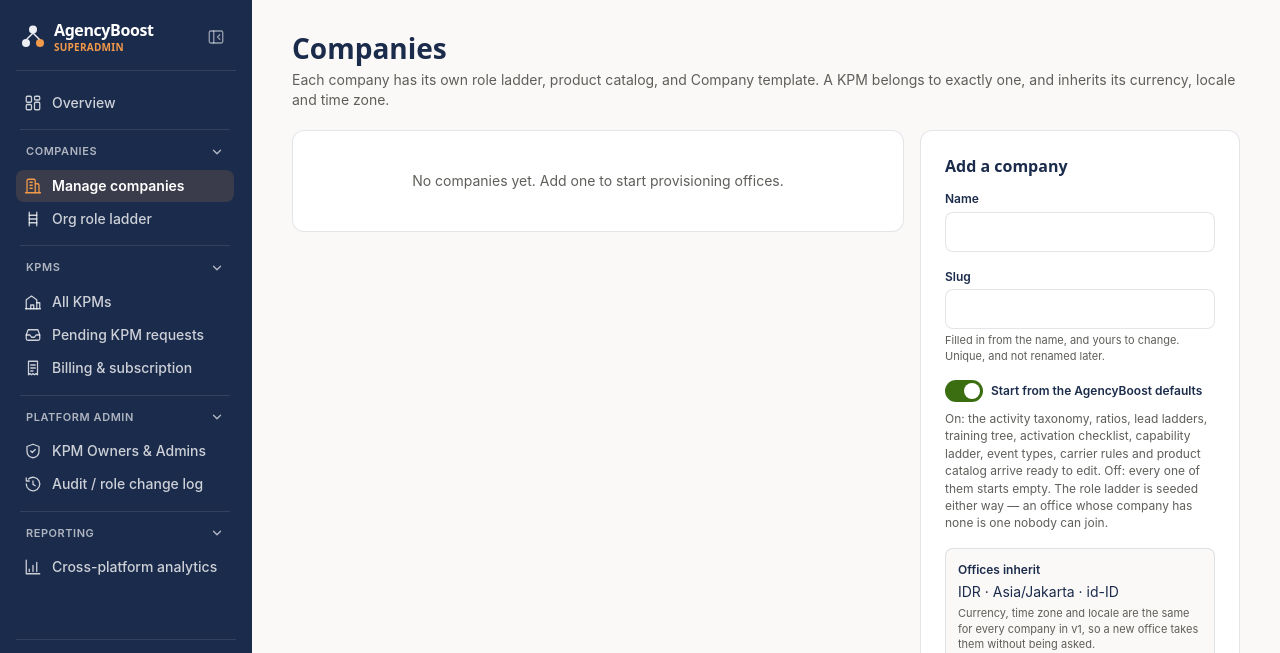
Test case: companies › rejects a slug the API would reject, before the round trip
Type "Prudential" into the field labelled "Name" at (1080,232), box [945,212,1215,252]
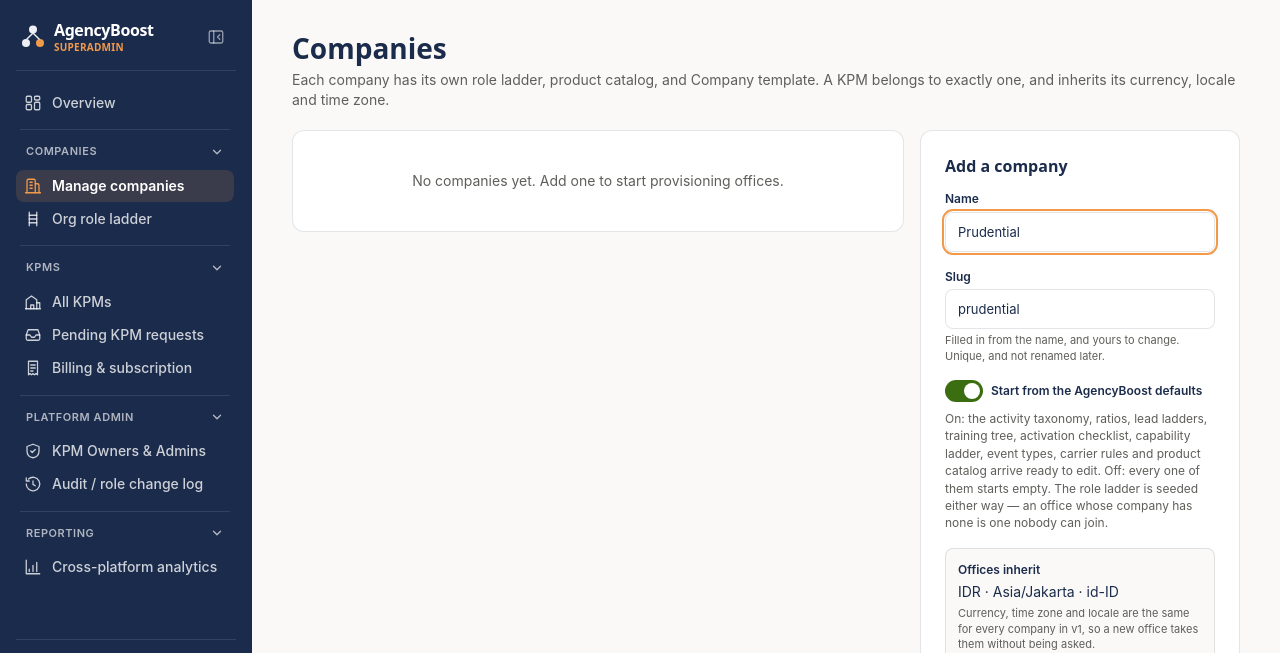
Replace the text in the field labelled "Slug" with "Prudential Indonesia" at (1080,309), box [945,289,1215,329]
(page scrolled)
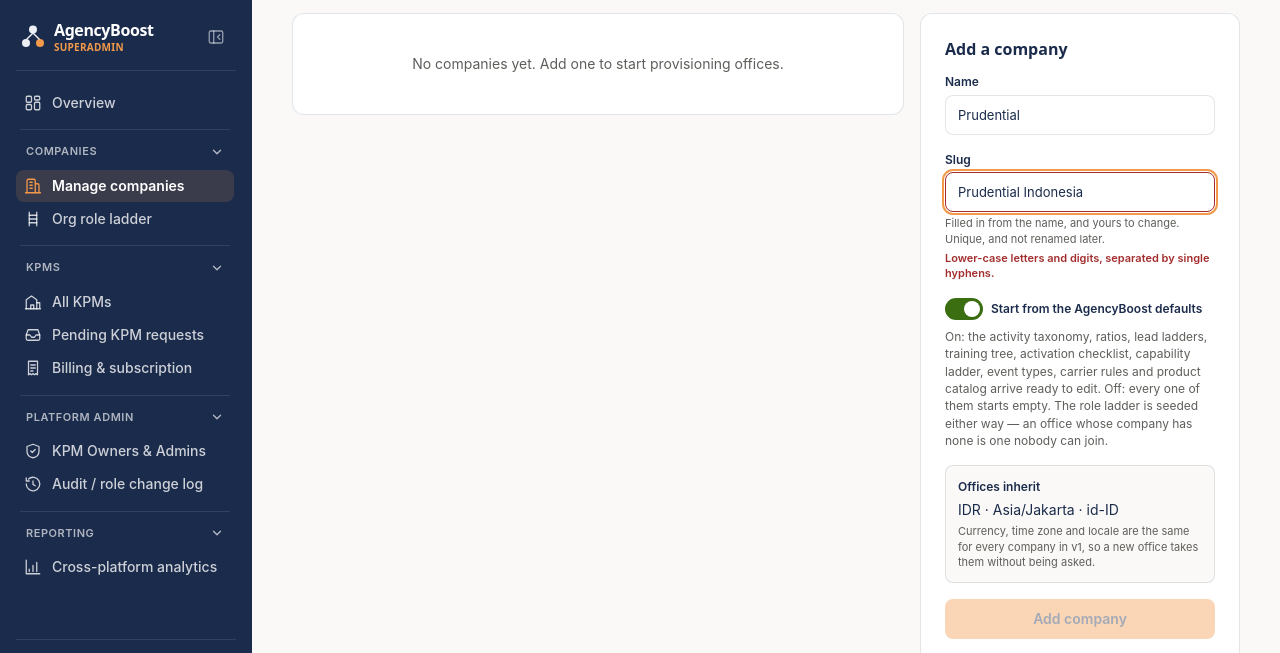
Now the button "Add company" is disabled, box [945,599,1215,639]
Now the text "Lower-case letters and digits, separated by single hyphens." is shown, box [945,251,1215,282]
